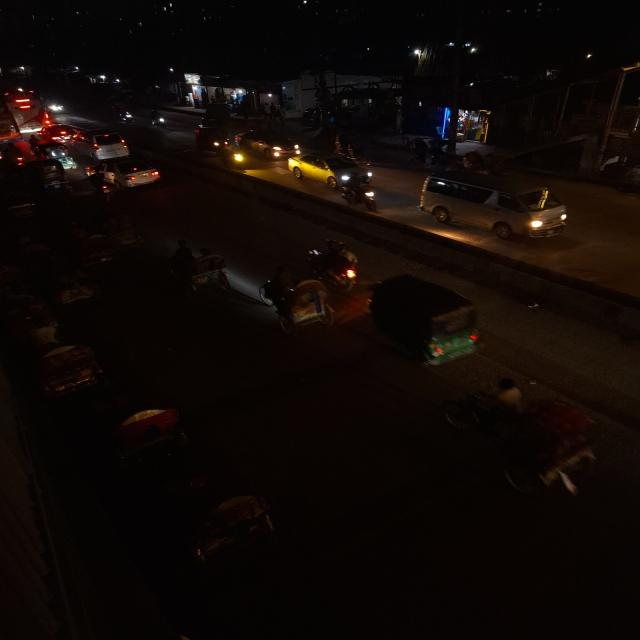bus: (9, 91, 53, 136)
car: (414, 166, 576, 242), (287, 148, 374, 188), (70, 128, 138, 162), (84, 160, 162, 189), (235, 128, 303, 158), (44, 122, 88, 144)
cng: (367, 272, 487, 368), (190, 126, 232, 154), (39, 144, 77, 173)
motorcycle: (309, 241, 358, 289), (343, 171, 382, 212), (111, 106, 139, 125), (148, 107, 169, 127)
rickshaw: (254, 267, 336, 336), (165, 238, 232, 302)
